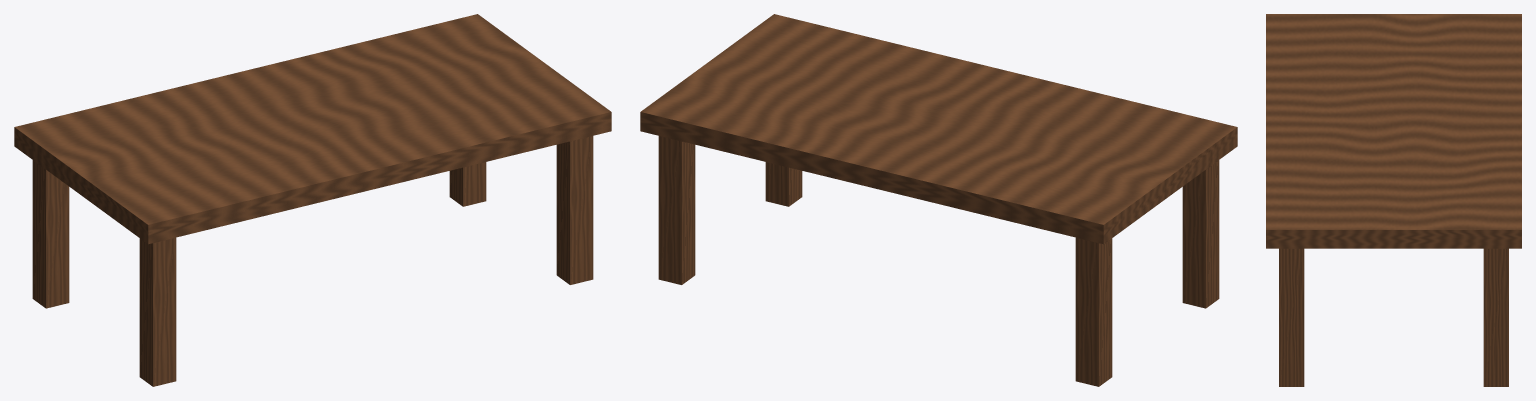
Rendered from z2_mesa_baja.obj.
3 renders of one model, left to right at view 1: azimuth 30°, elevation 25°; view 2: azimuth 150°, elevation 25°; view 3: azimuth 270°, elevation 25°, orthographic. The views are drawn at different scales.
Visible parts, largest first — view 1: mesa_baja; view 2: mesa_baja; view 3: mesa_baja.
Part boxes in pixels (box(x1,y1,x2,y2)): mesa_baja: box(14, 14, 611, 386); mesa_baja: box(640, 14, 1237, 386); mesa_baja: box(1266, 14, 1521, 386).
Size of the model in its own units: 1 by 0.35 by 0.5.
Materials: 1 (1 with a texture image).
